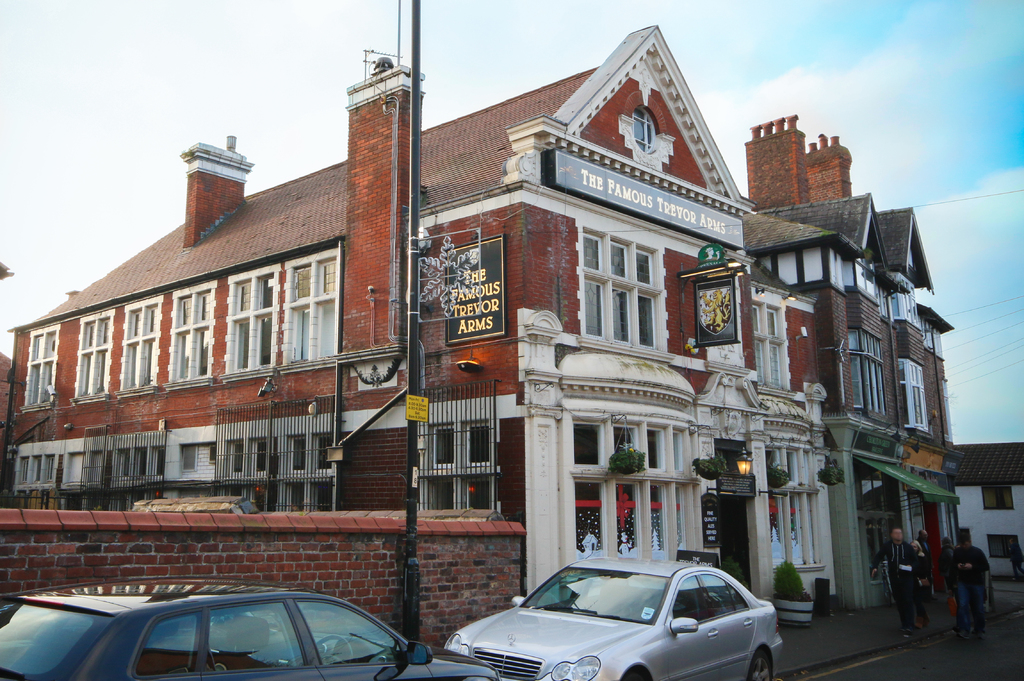mobil: (435, 556, 789, 681)
